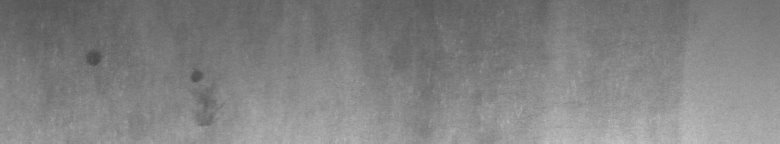fi: (84, 42, 108, 72)
